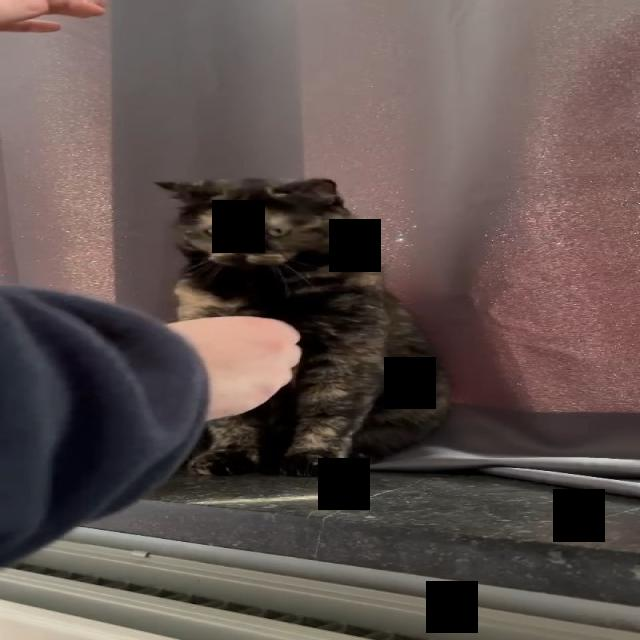authorized: (153, 176, 452, 477)
